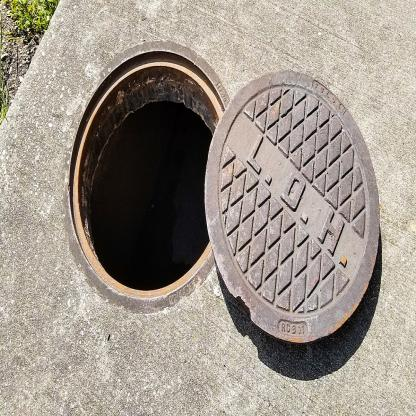open manhole-not overflowing-: (68, 41, 380, 345)
